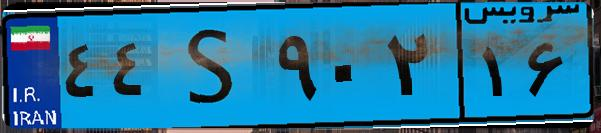0: (330, 28, 385, 110)
1: (475, 38, 525, 113)
2: (385, 28, 445, 110)
4: (57, 26, 110, 100), (110, 28, 158, 98)
6: (525, 38, 570, 115)
9: (270, 28, 330, 110)
S: (158, 12, 270, 120)
